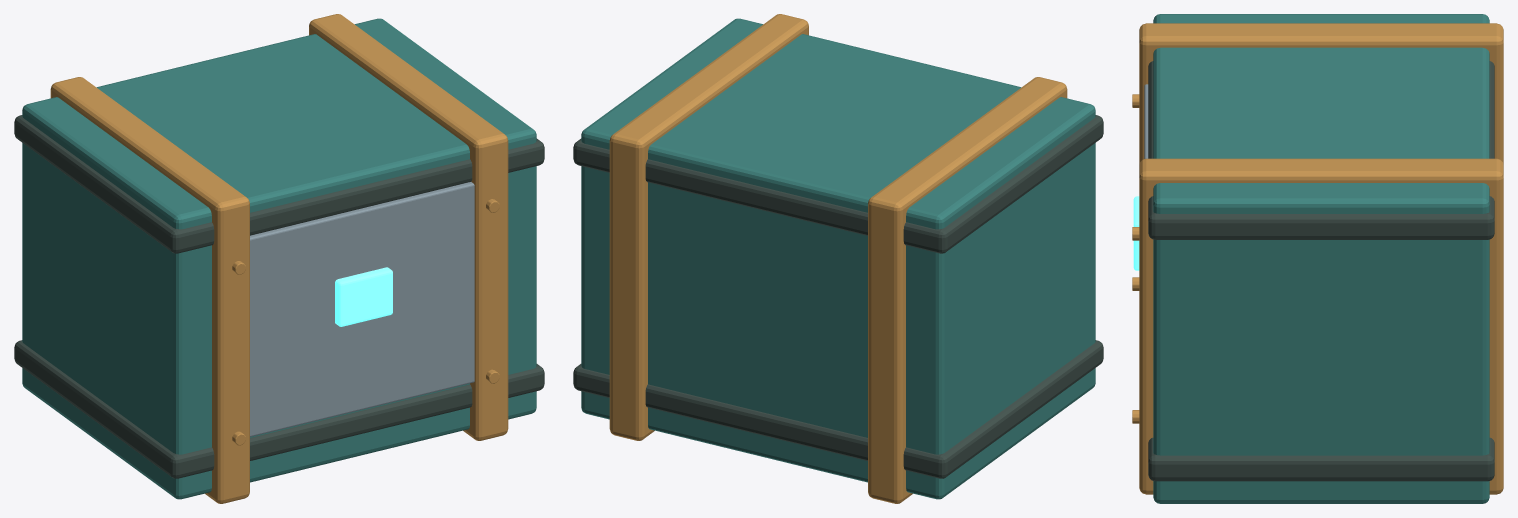
The model's file is supply_crate.glb.
The picture shows the model from 3 angles, left to right: view 1: azimuth 30°, elevation 25°; view 2: azimuth 150°, elevation 25°; view 3: azimuth 270°, elevation 25°; orthographic projection. The views are drawn at different scales.
Visible parts, largest first — view 1: Armored case band.002; view 2: Armored case band.002; view 3: Armored case band.002.
Boxes of the visible parts, <box> form: Armored case band.002: <box>14,14,544,503</box>; Armored case band.002: <box>573,14,1103,503</box>; Armored case band.002: <box>1132,14,1503,503</box>.
Bounding box in the file's own units: 1.65 × 1.27 × 1.32.
